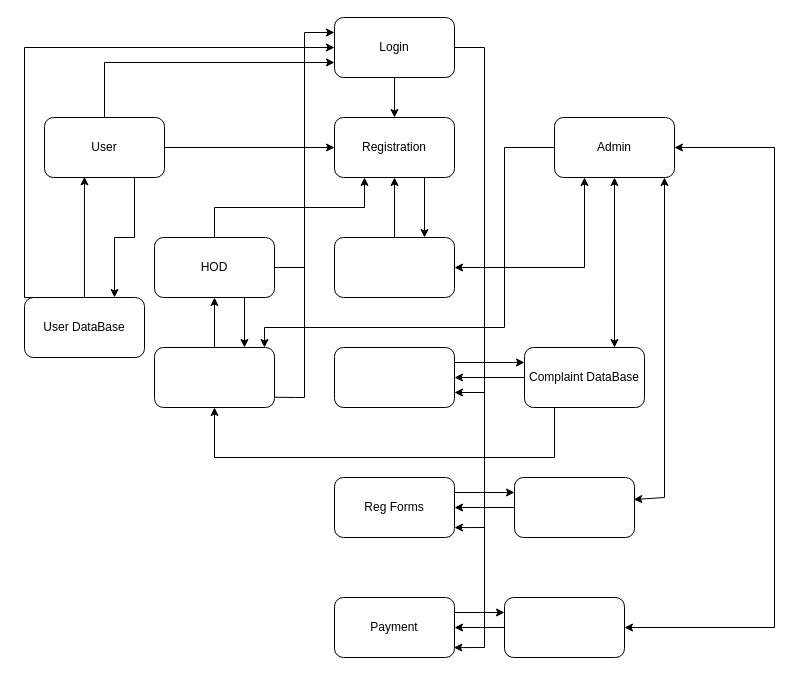
Some shapes in this 801 by 675 pixel diagram are drawn without their labels. Here are the shapes that lost their labels. From the top down, the centre of each, then its label:
At (x=394, y=267): "Registration DataBase".
At (x=214, y=377): "HOD DataBase".
At (x=394, y=377): "Complaint".
At (x=574, y=507): "Registration Forms DataBase".
At (x=564, y=627): "Payment DataBase".
